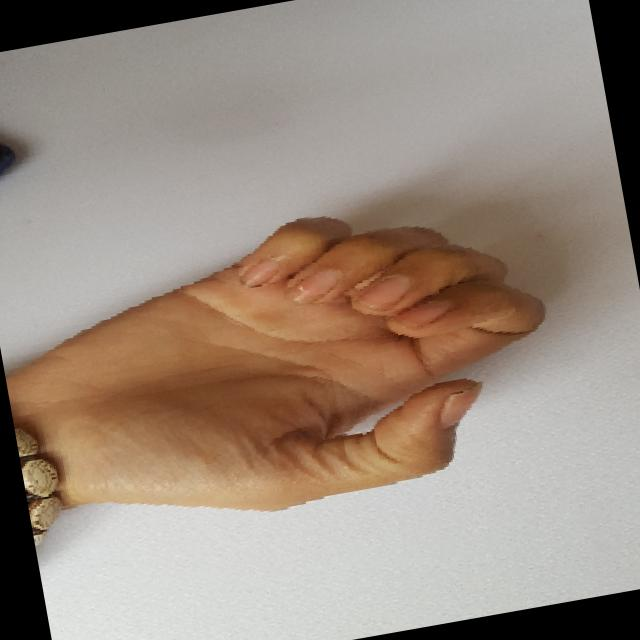Nail: (287, 268, 340, 302), (358, 274, 408, 310), (394, 299, 450, 326), (439, 388, 476, 428), (240, 259, 279, 286)
